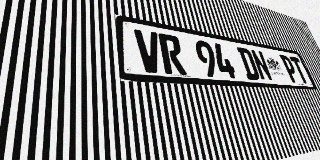4: (211, 42, 237, 79)
9: (193, 39, 221, 77)
D: (236, 47, 261, 80)
N: (250, 49, 273, 81)
P: (279, 54, 301, 83)
R: (158, 33, 187, 75)
T: (289, 56, 310, 84)
V: (134, 29, 164, 74)
